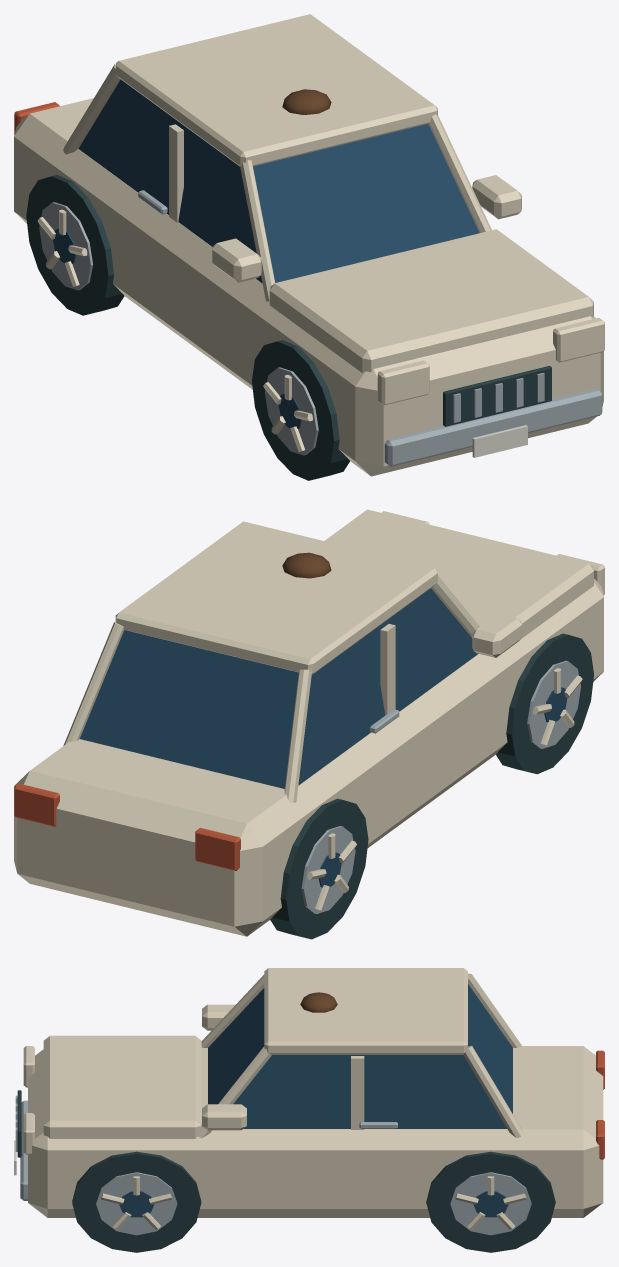
File: mobility.glb
3 renders of one model, top to bottom at view 1: azimuth 30°, elevation 25°; view 2: azimuth 150°, elevation 25°; view 3: azimuth 270°, elevation 25°, orthographic. The views are drawn at different scales.
Visible parts, largest first — view 1: motion_car_mesh, walker_head_mesh; view 2: motion_car_mesh, walker_head_mesh; view 3: motion_car_mesh, walker_head_mesh.
Part boxes in pixels (<box>): motion_car_mesh: <box>14,14,604,480</box>; walker_head_mesh: <box>282,89,331,114</box>; motion_car_mesh: <box>14,509,604,939</box>; walker_head_mesh: <box>282,552,331,578</box>; motion_car_mesh: <box>14,968,604,1252</box>; walker_head_mesh: <box>300,992,337,1012</box>.
Size of the model in its own units: 1.94 by 1.7 by 4.38.
